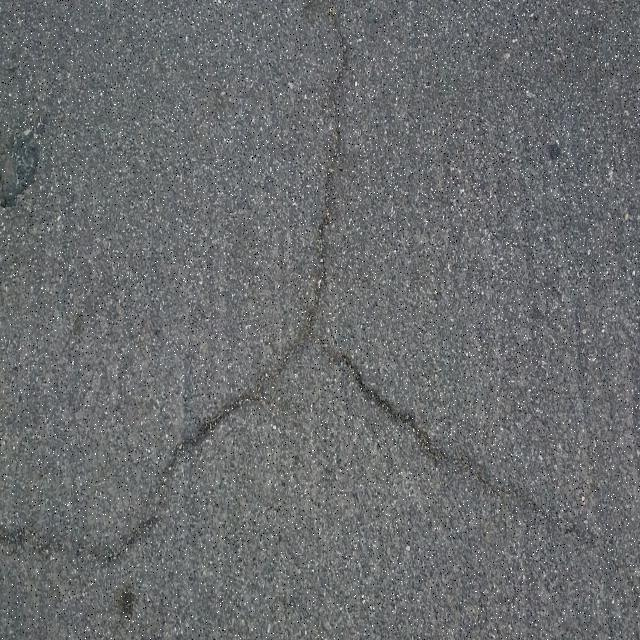Crack: (0, 0, 515, 563)
